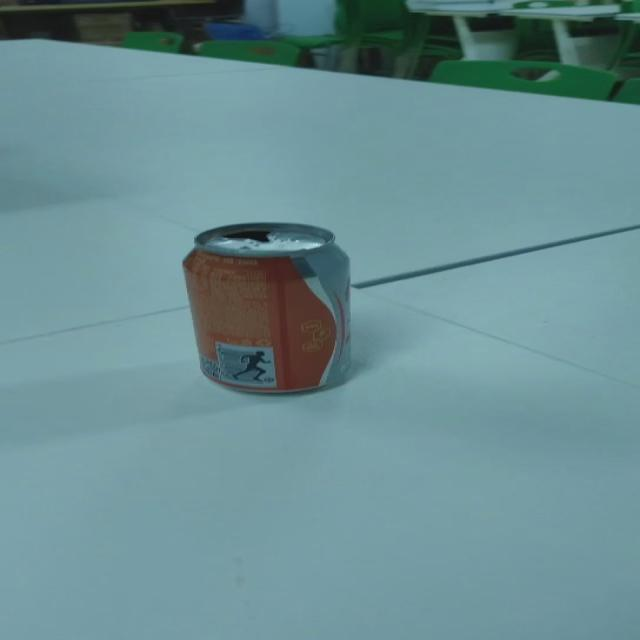can: (183, 220, 354, 394)
